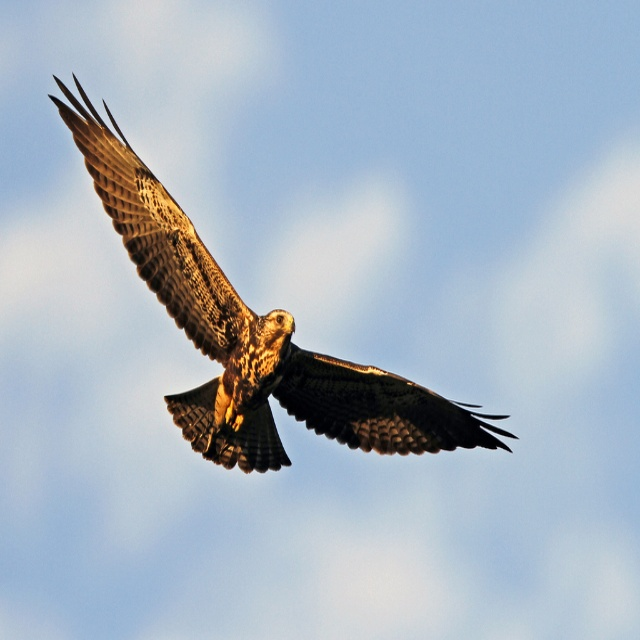Eagle: (48, 71, 520, 475)
